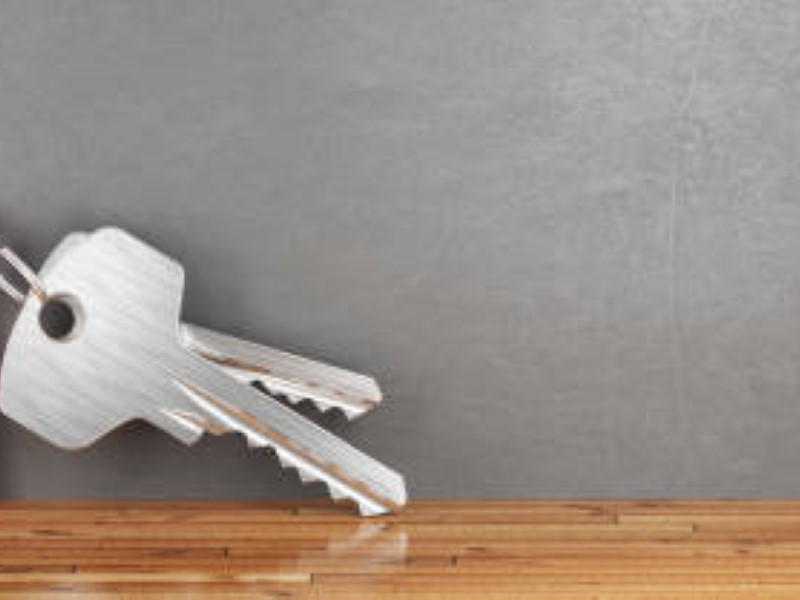key: (0, 223, 407, 518)
